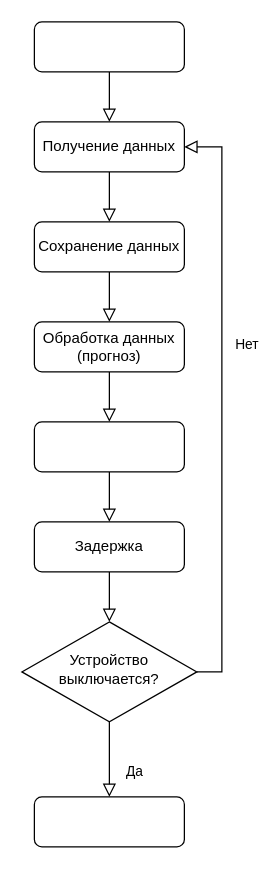
Image size: 280x869. Some labels were removed from this diagram. The box of each missing label's shape, as (x1, y1, x2, y2) in pixels:
Выключение: (33, 796, 184, 847)
Инициализация: (33, 21, 184, 72)
Передача данных: (33, 421, 184, 472)
